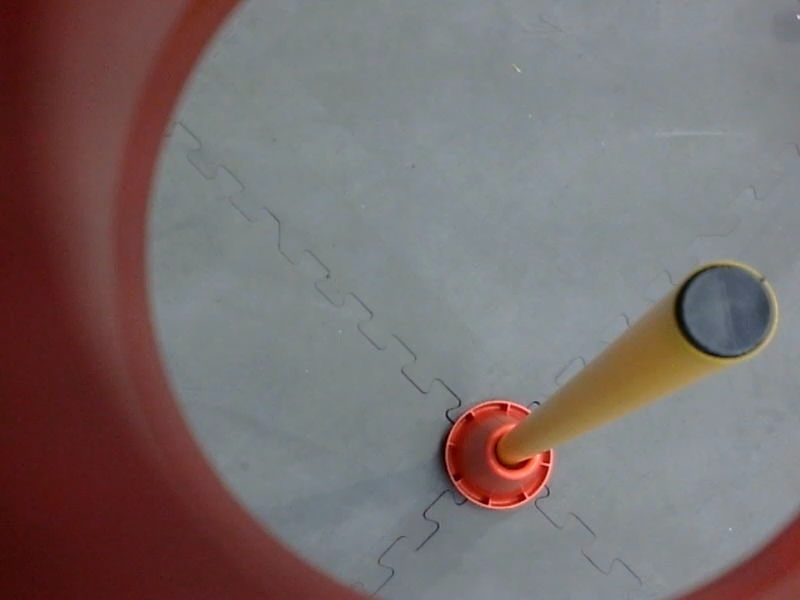tip: (665, 258, 783, 367)
